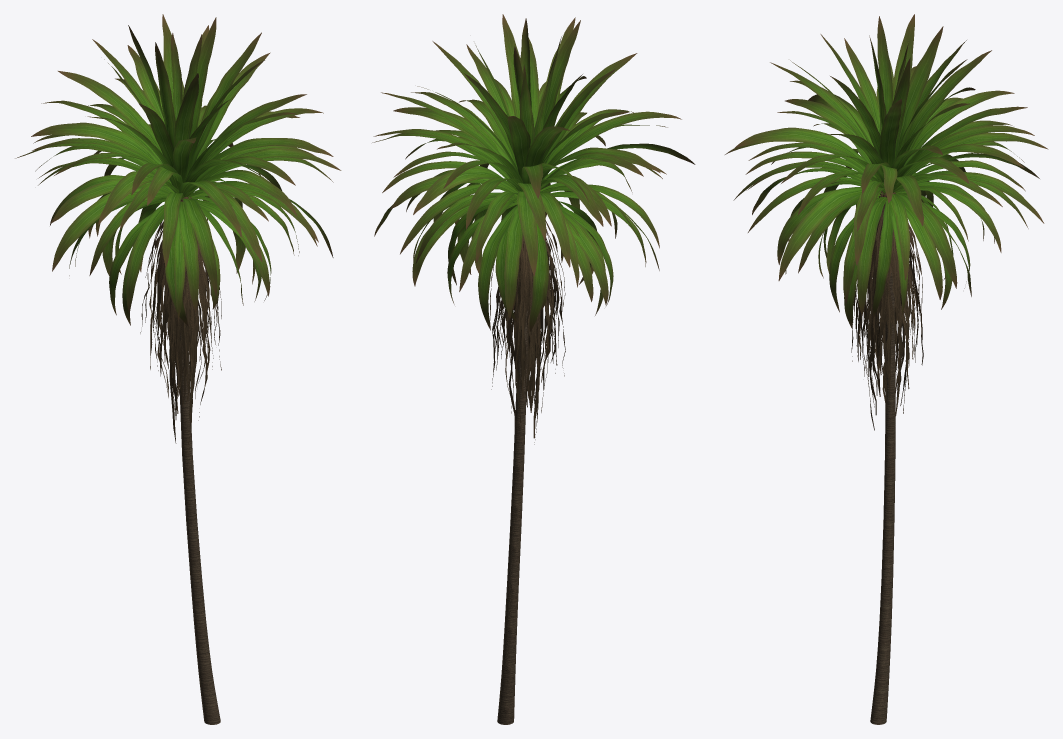
File: cgaxis_models_15_14_fbx.fbx
The picture shows the model from 3 angles, left to right: view 1: azimuth 30°, elevation 25°; view 2: azimuth 150°, elevation 25°; view 3: azimuth 270°, elevation 25°; orthographic projection. The views are drawn at different scales.
Visible parts, largest first — view 1: cgaxis_models_15_14_02, cgaxis_models_15_14_03, cgaxis_models_15_14_01; view 2: cgaxis_models_15_14_02, cgaxis_models_15_14_03, cgaxis_models_15_14_01; view 3: cgaxis_models_15_14_02, cgaxis_models_15_14_03, cgaxis_models_15_14_01.
Boxes of the visible parts, left/top/right/bottom form: cgaxis_models_15_14_02: left=15, top=14, right=341, bottom=325; cgaxis_models_15_14_03: left=140, top=195, right=221, bottom=444; cgaxis_models_15_14_01: left=179, top=332, right=220, bottom=724; cgaxis_models_15_14_02: left=372, top=14, right=695, bottom=331; cgaxis_models_15_14_03: left=489, top=204, right=565, bottom=444; cgaxis_models_15_14_01: left=497, top=310, right=528, bottom=724; cgaxis_models_15_14_02: left=725, top=14, right=1048, bottom=328; cgaxis_models_15_14_03: left=851, top=190, right=923, bottom=430; cgaxis_models_15_14_01: left=870, top=271, right=895, bottom=724.
Size of the model in its own units: 83.61 by 206 by 88.98.
3 materials, 3 textured.
